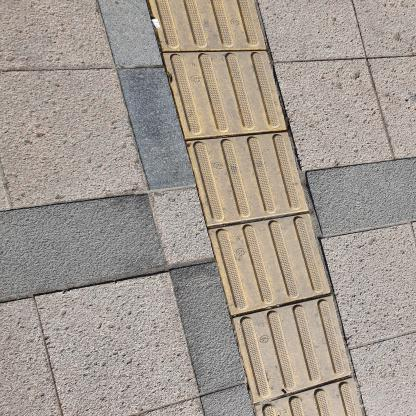podotacti: (136, 0, 372, 415)
